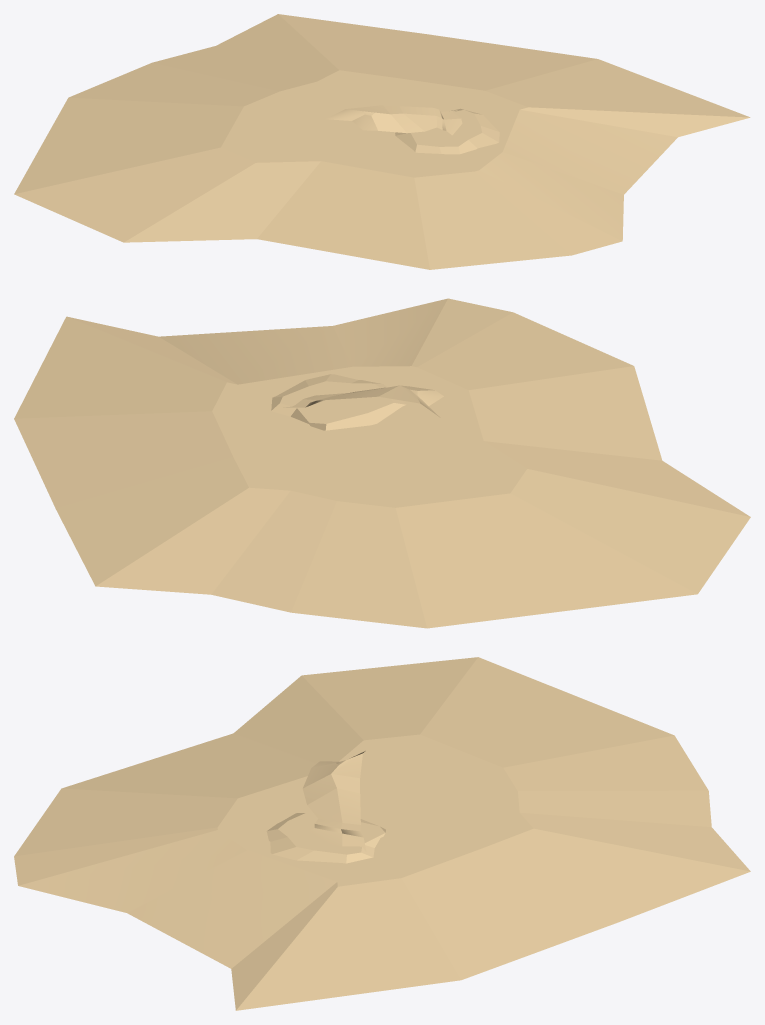
The model's file is Sand.obj.
3 renders of one model, top to bottom at view 1: azimuth 30°, elevation 25°; view 2: azimuth 150°, elevation 25°; view 3: azimuth 270°, elevation 25°, orthographic. The views are drawn at different scales.
Visible parts, largest first — view 1: Sand; view 2: Sand; view 3: Sand.
Boxes of the visible parts, x1,y1,x2,y2 form: Sand: [14, 14, 750, 269]; Sand: [14, 298, 750, 628]; Sand: [14, 657, 750, 1010].
Bounding box in the file's own units: 233 × 18.87 × 205.
1 material, 1 textured.
